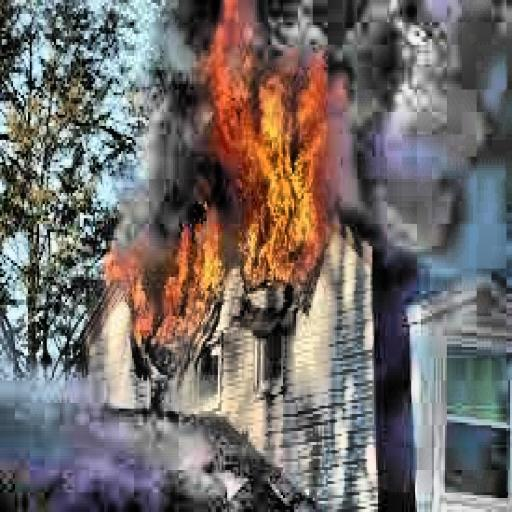fire: (205, 20, 344, 296), (99, 193, 227, 344)
